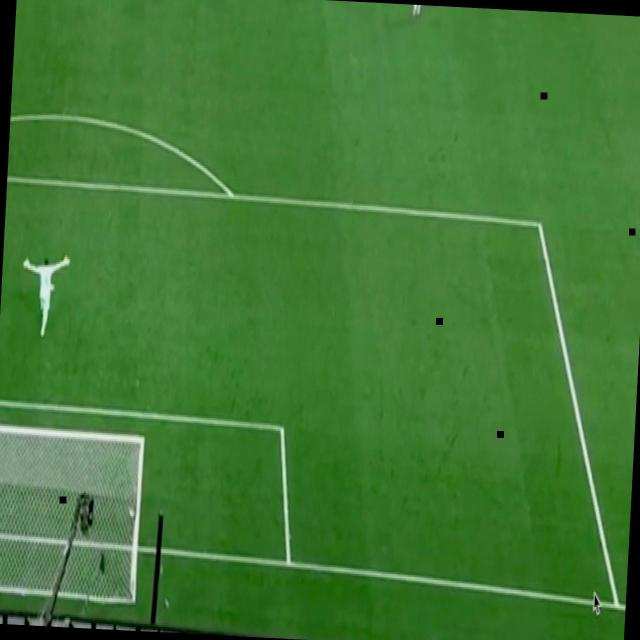player-white: (18, 251, 70, 341), (410, 4, 430, 18)
